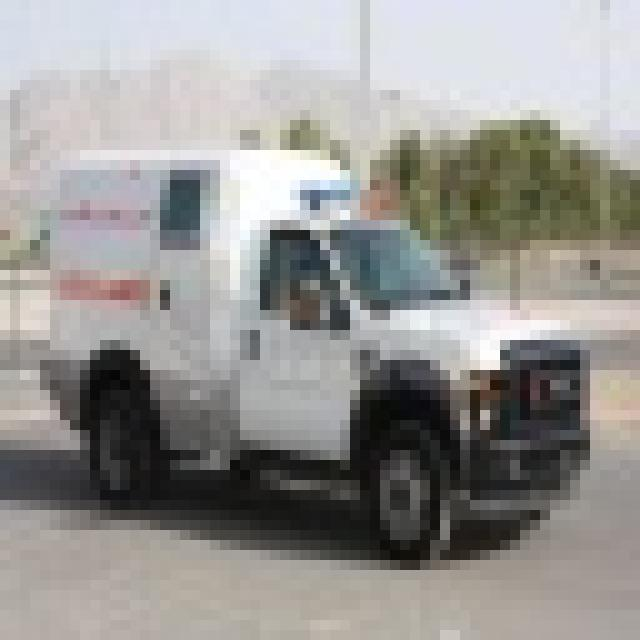ambulance: (30, 140, 590, 560)
